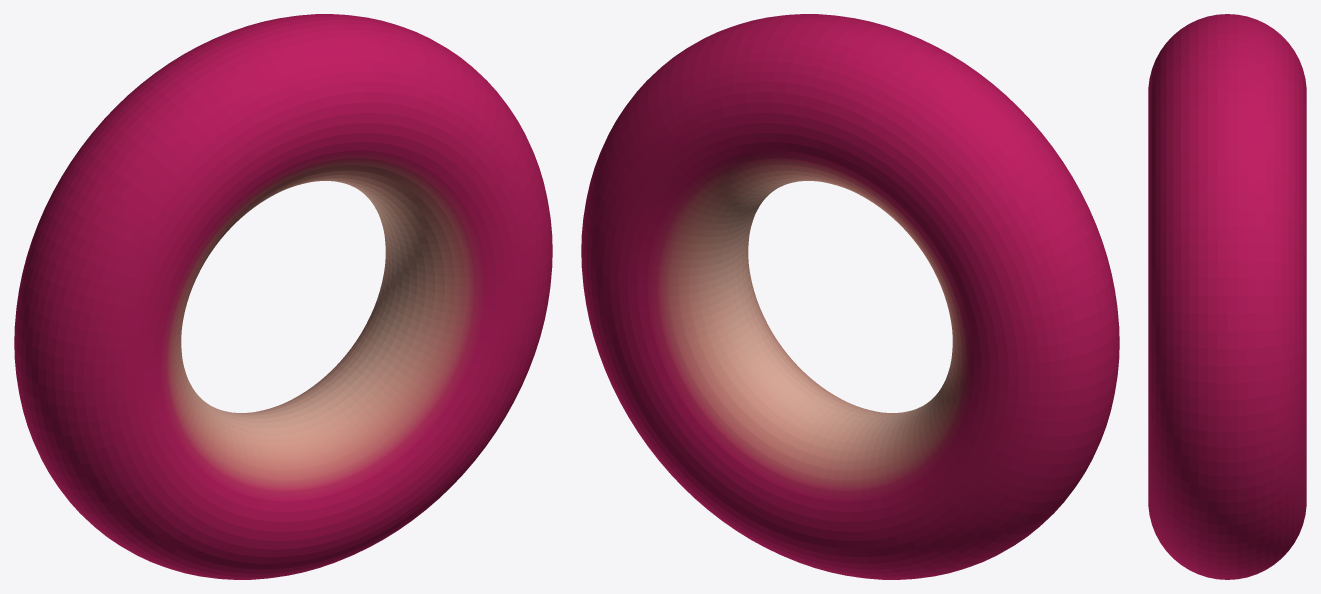
The picture shows the model from 3 angles, left to right: view 1: azimuth 30°, elevation 25°; view 2: azimuth 150°, elevation 25°; view 3: azimuth 270°, elevation 25°; orthographic projection. The views are drawn at different scales.
Visible parts, largest first — view 1: world; view 2: world; view 3: world.
Part boxes in pixels (x1=…): world: x1=14, y1=14, x2=552, y2=579; world: x1=581, y1=14, x2=1119, y2=579; world: x1=1148, y1=14, x2=1306, y2=579.
Size of the model in its own units: 17.6 by 17.6 by 4.92.
